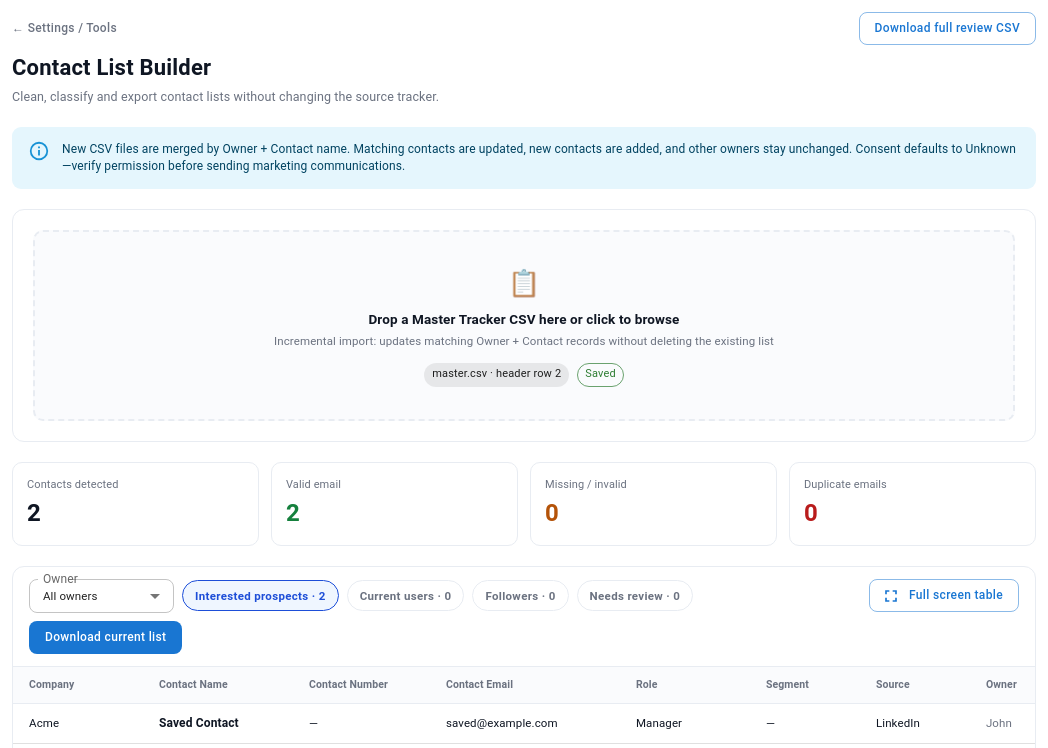
Scenario: AdminContactListBuilderPage access › filters contacts by owner
Expected: the text "Saved Contact" is shown, [143,703,293,744]
Press the mouse on the dropdown labelled "owner" at (70, 596), box [43,589,98,603]
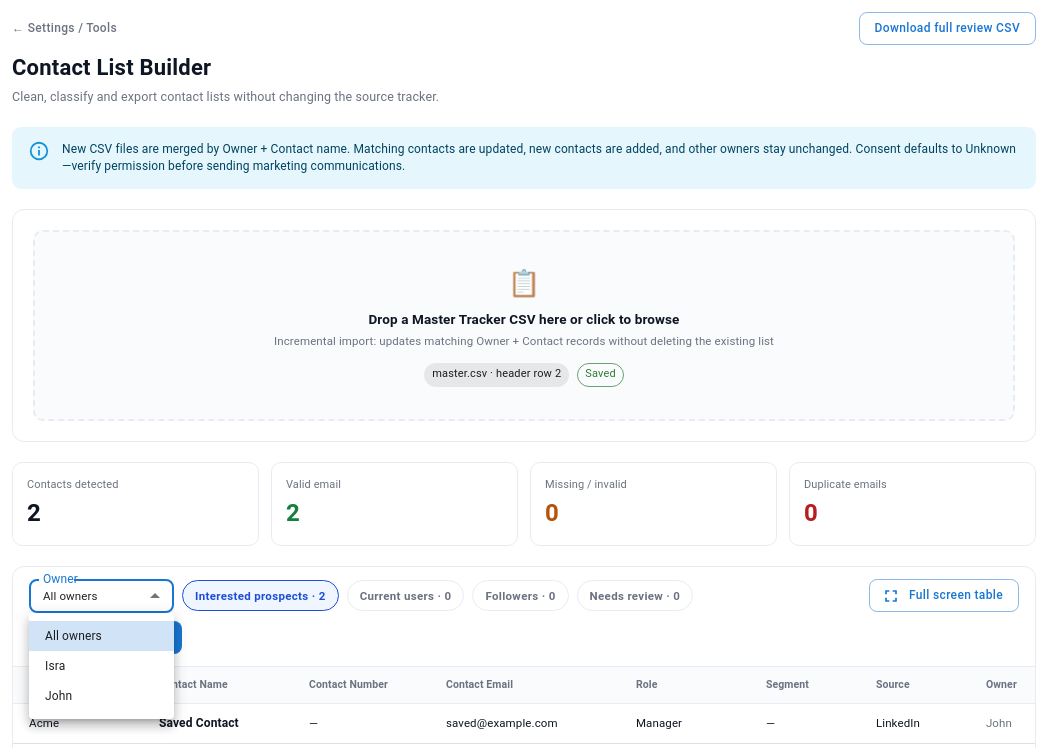
Click the option "Isra" at (55, 666), box [45,659,65,673]
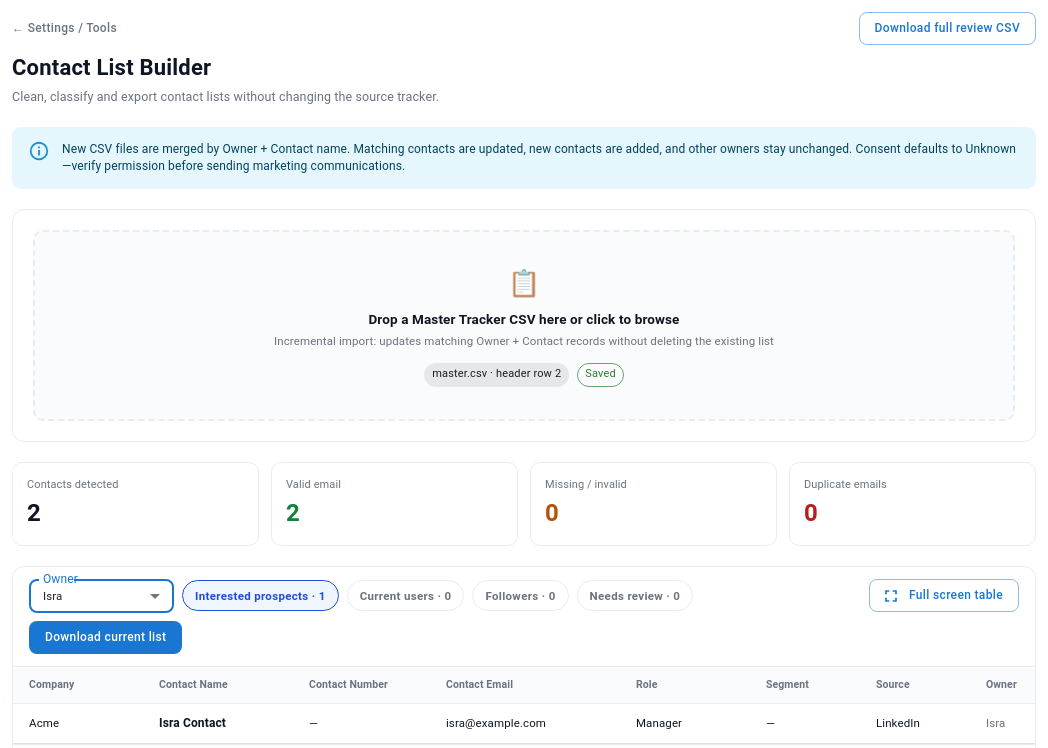
Expected: the text "Isra Contact" is shown, [143,703,293,744]
Expected: the button "Interested prospects · 1" is shown, [182,580,339,611]
